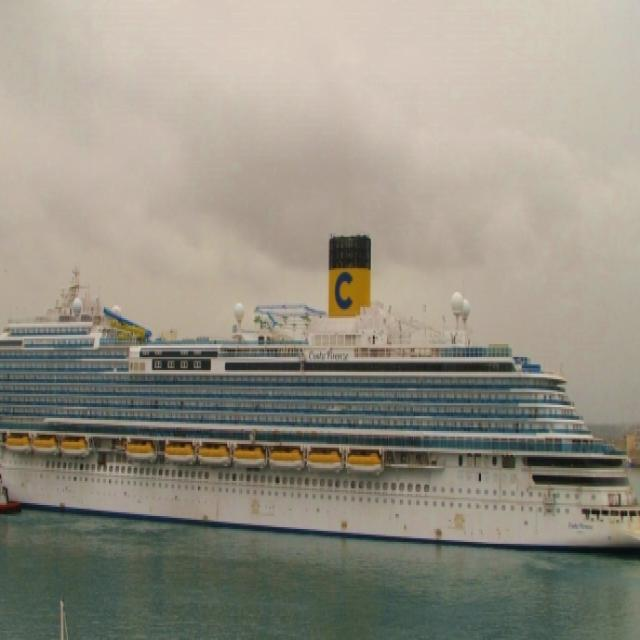cruises: (1, 229, 640, 576)
